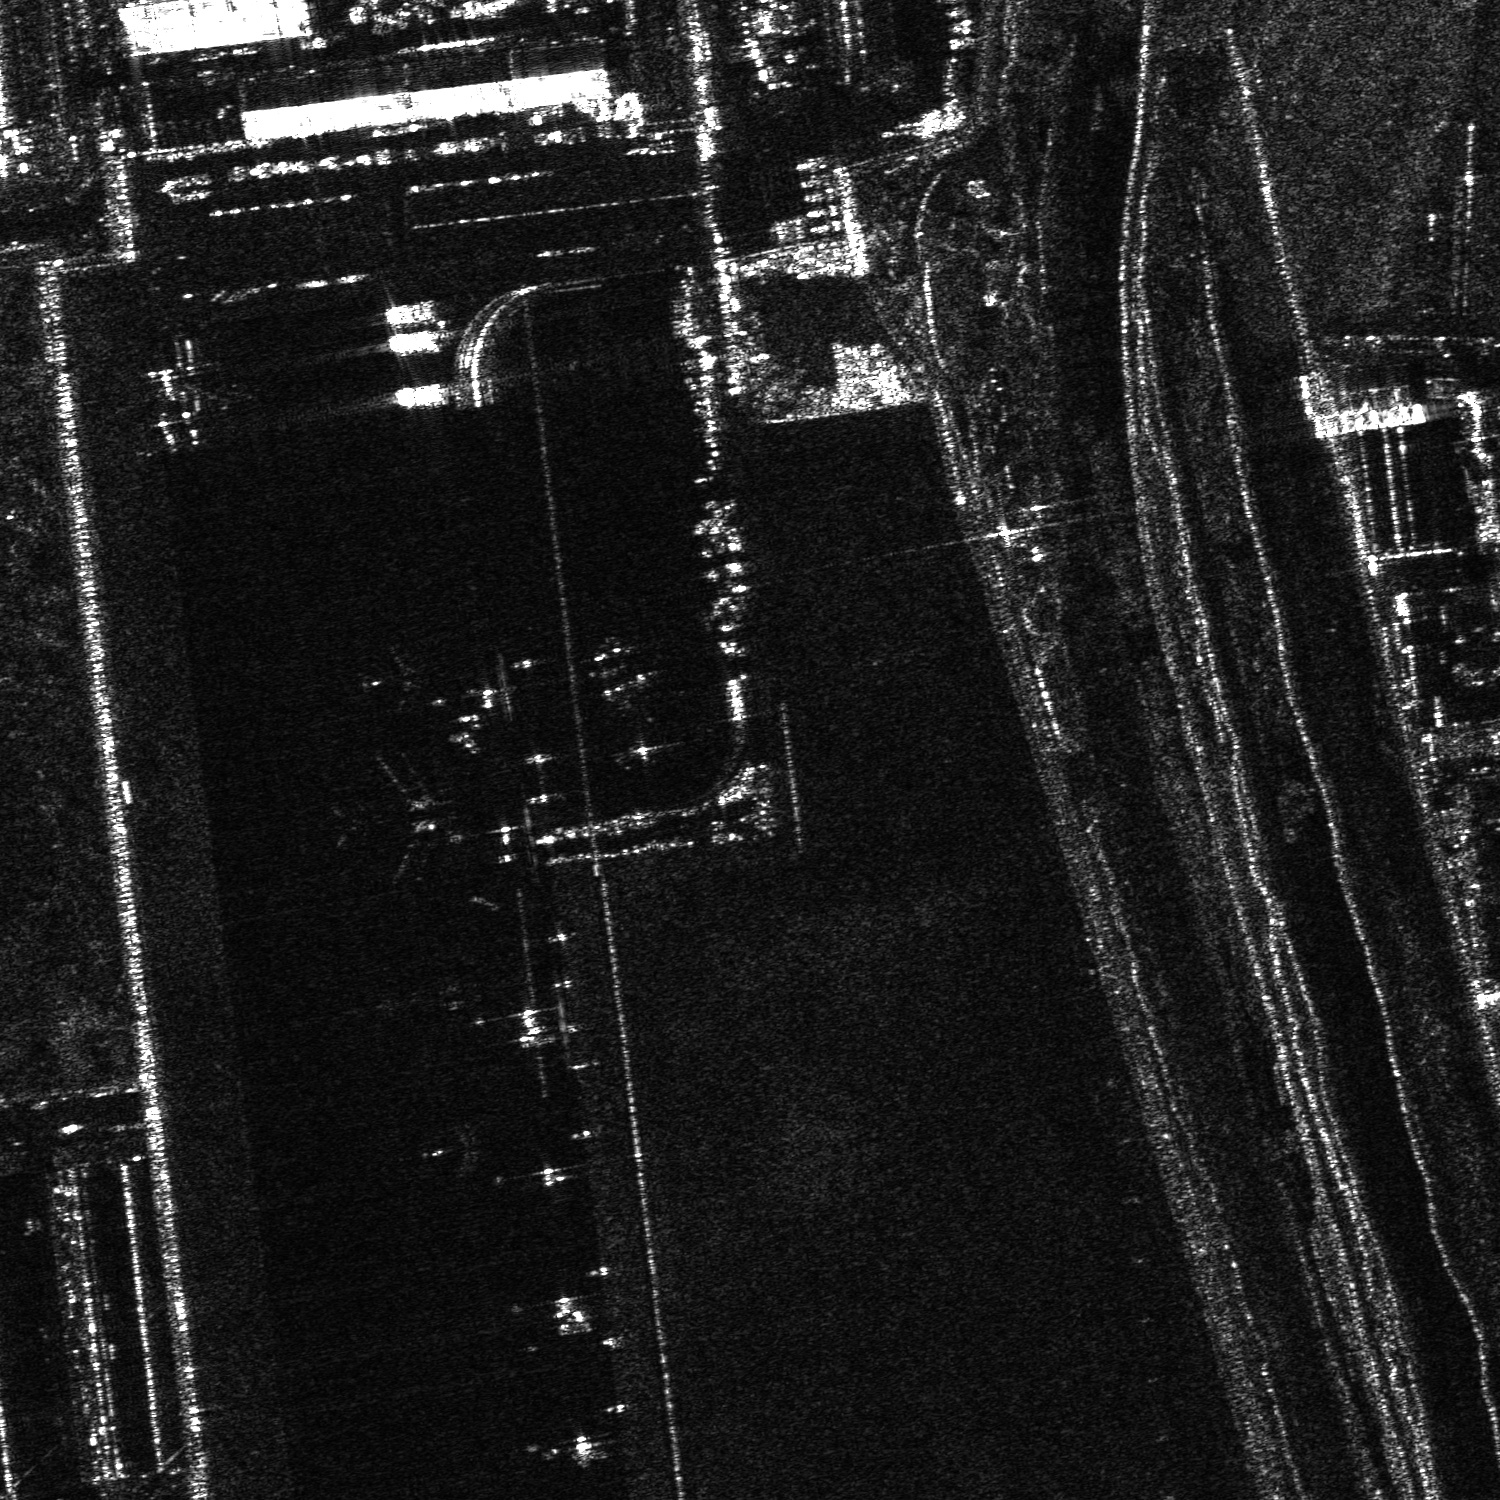Boeing787: (326, 749, 464, 891), (352, 641, 438, 718), (418, 1114, 500, 1180)
other: (115, 354, 253, 453)
